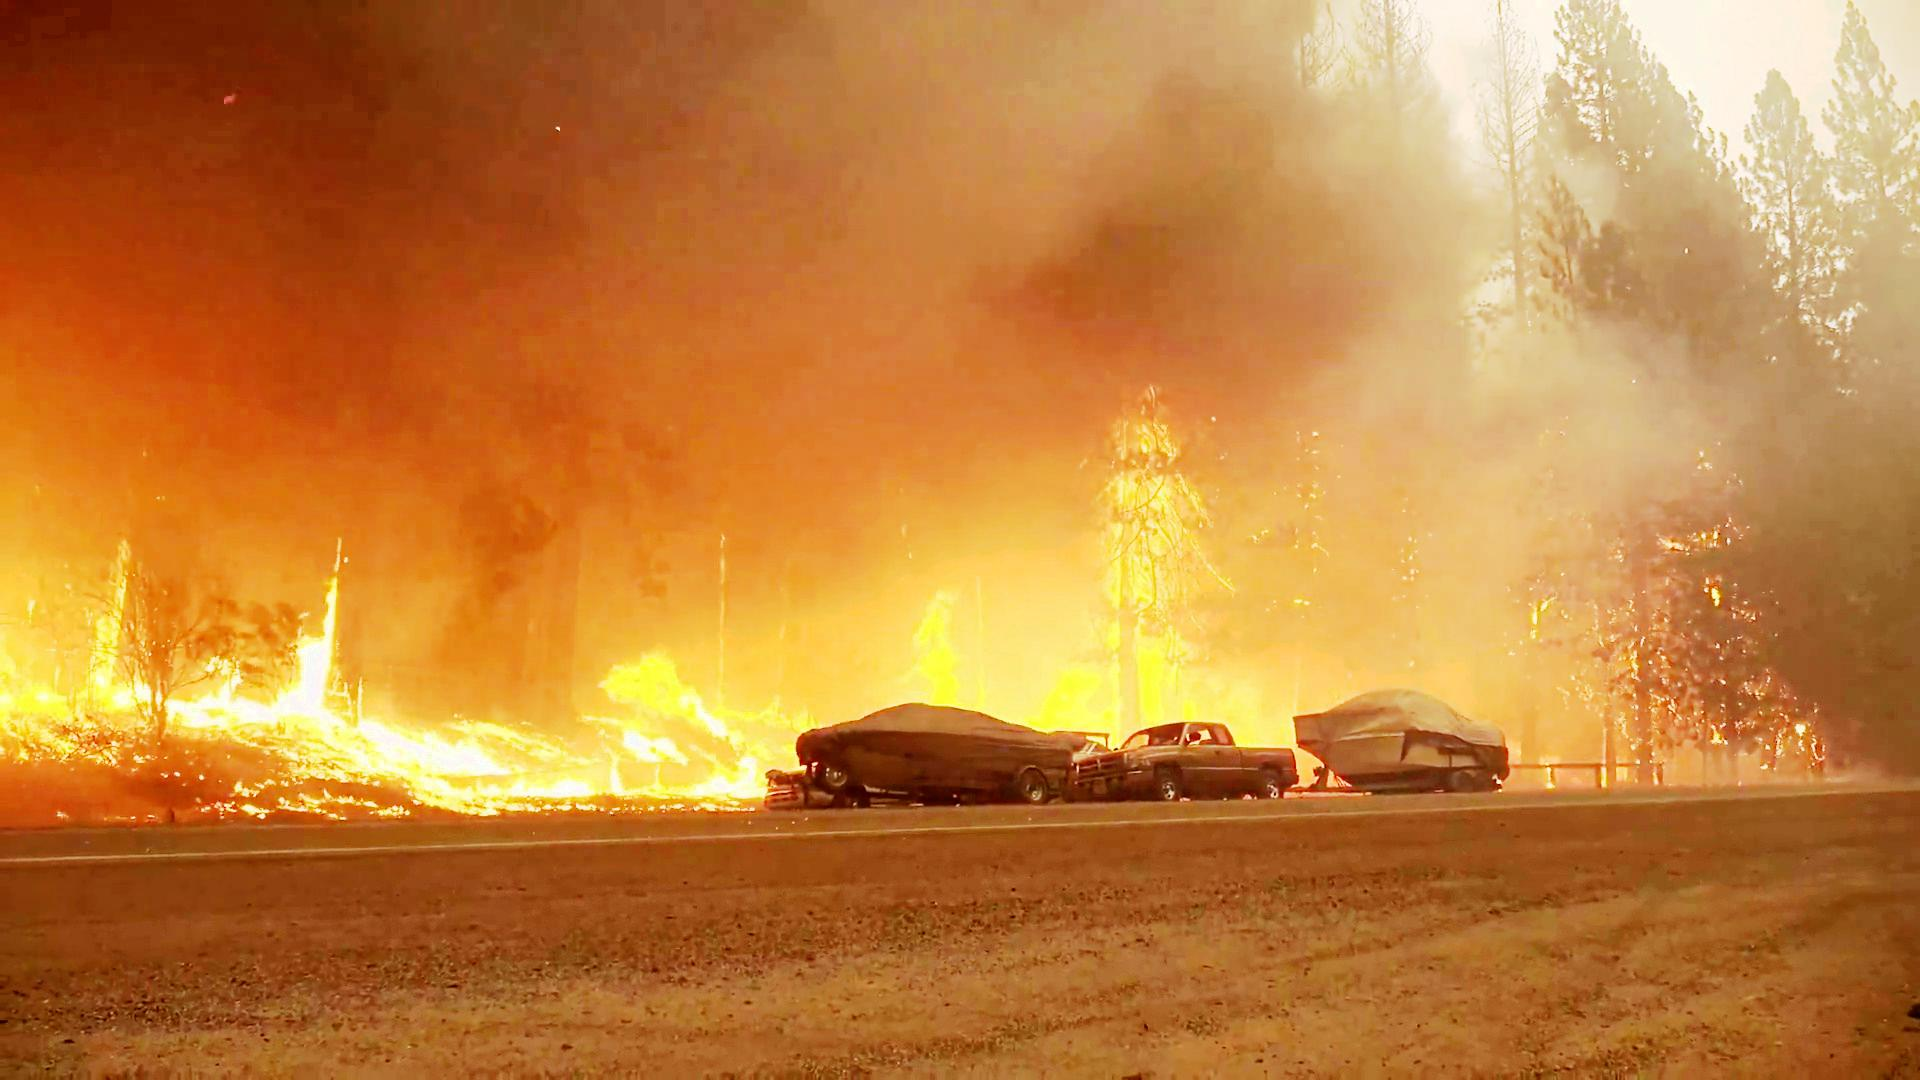fire: (286, 606, 555, 802), (0, 545, 150, 746), (873, 593, 1089, 726), (616, 656, 783, 804), (1110, 418, 1185, 716)
smoke: (113, 0, 936, 518), (713, 0, 1390, 416), (0, 17, 483, 456)
